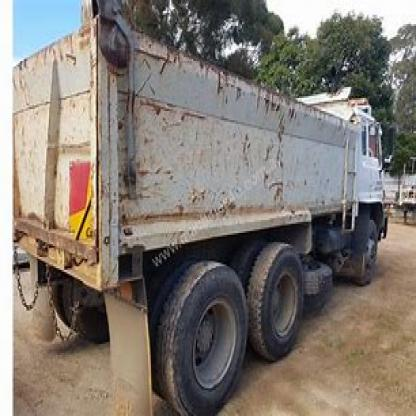dump_truck: (23, 13, 397, 407)
